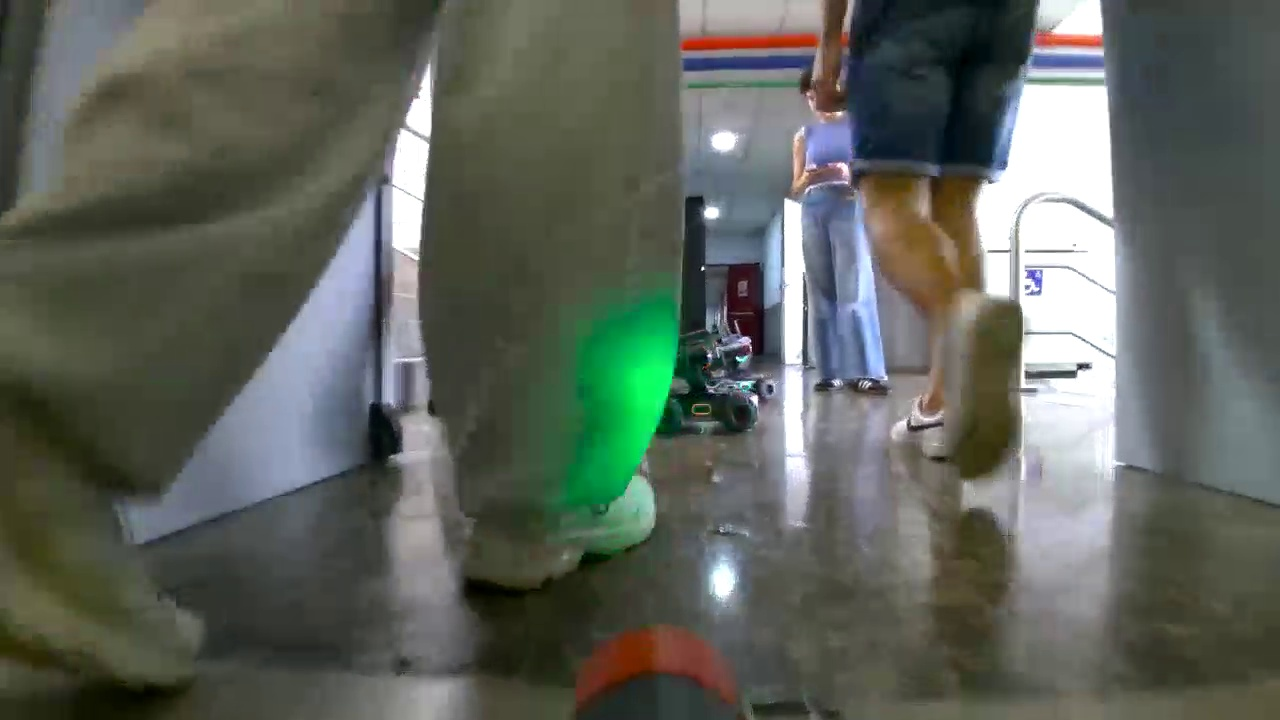robot: (641, 319, 762, 437), (722, 353, 782, 402)
